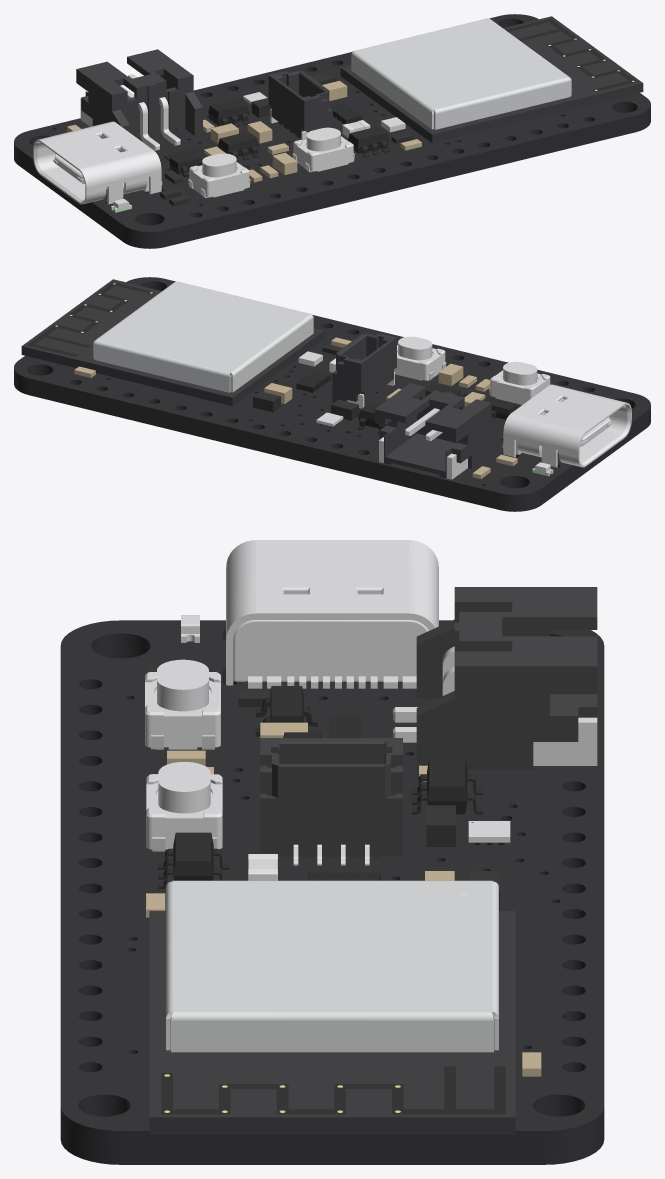
Rendered from feather_esp32s3.glb.
The picture shows the model from 3 angles, top to bottom: view 1: azimuth 30°, elevation 25°; view 2: azimuth 150°, elevation 25°; view 3: azimuth 270°, elevation 25°; orthographic projection. The views are drawn at different scales.
Parts seen in each view (by area): view 1: mask_uv, shield, silver, plasticDark, modulePcb, black, ceramic, resistor; view 2: mask_uv, shield, silver, plasticDark, modulePcb, black, ceramic, resistor; view 3: mask_uv, shield, silver, plasticDark, modulePcb, black, ceramic, resistor.
Part boxes in pixels (box(x1,y1,x2,y2)): mask_uv: box(14, 14, 650, 248); shield: box(351, 18, 571, 129); silver: box(33, 52, 405, 212); plasticDark: box(76, 49, 332, 137); modulePcb: box(340, 16, 643, 143); black: box(164, 19, 636, 177); ceramic: box(67, 80, 421, 182); resistor: box(160, 72, 412, 206); mask_uv: box(14, 277, 650, 511); shield: box(93, 281, 313, 392); silver: box(222, 336, 631, 479); plasticDark: box(332, 333, 501, 478); modulePcb: box(21, 279, 324, 406); black: box(27, 282, 517, 433); ceramic: box(74, 337, 517, 479); resistor: box(253, 344, 358, 420); mask_uv: box(60, 620, 604, 1164); shield: box(166, 880, 498, 1052); silver: box(145, 540, 597, 895); plasticDark: box(260, 587, 597, 857); modulePcb: box(149, 911, 515, 1134); black: box(158, 686, 505, 1114); ceramic: box(146, 722, 541, 1076); resistor: box(149, 667, 499, 910).
Size of the model in its own units: 5.22 by 0.6369 by 2.29.
